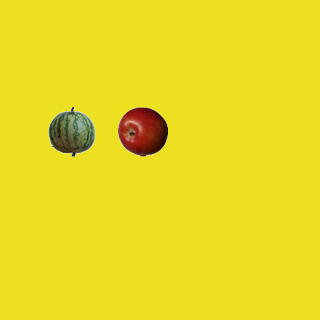Apple Braeburn: (117, 106, 167, 156)
Watermelon: (46, 106, 96, 156)
